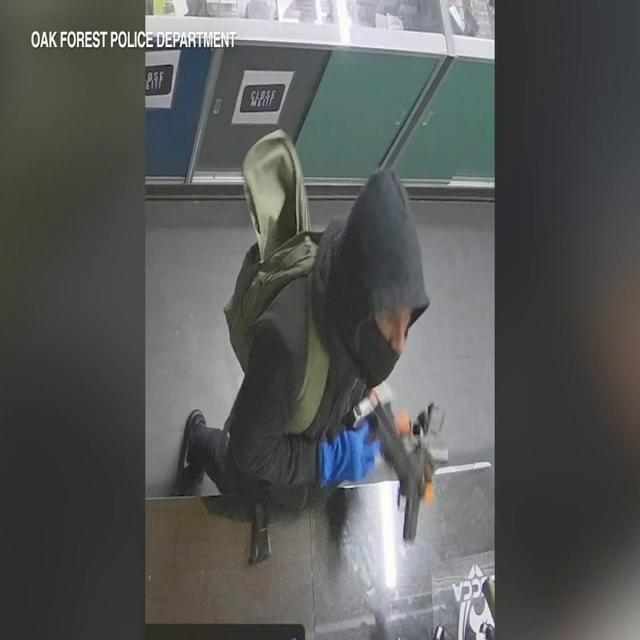Handgun: (358, 391, 426, 549)
